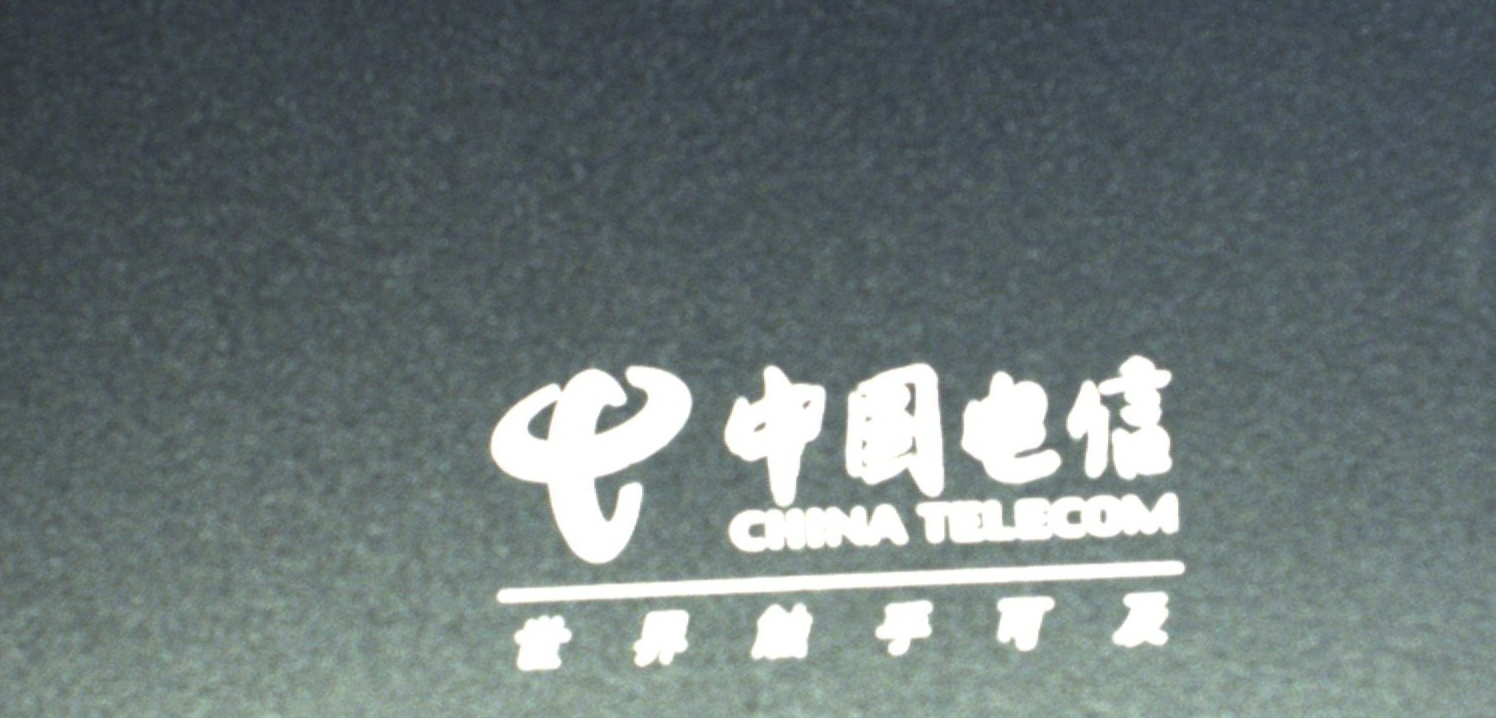AB_ChinaTelecom: (472, 343, 1186, 681)
